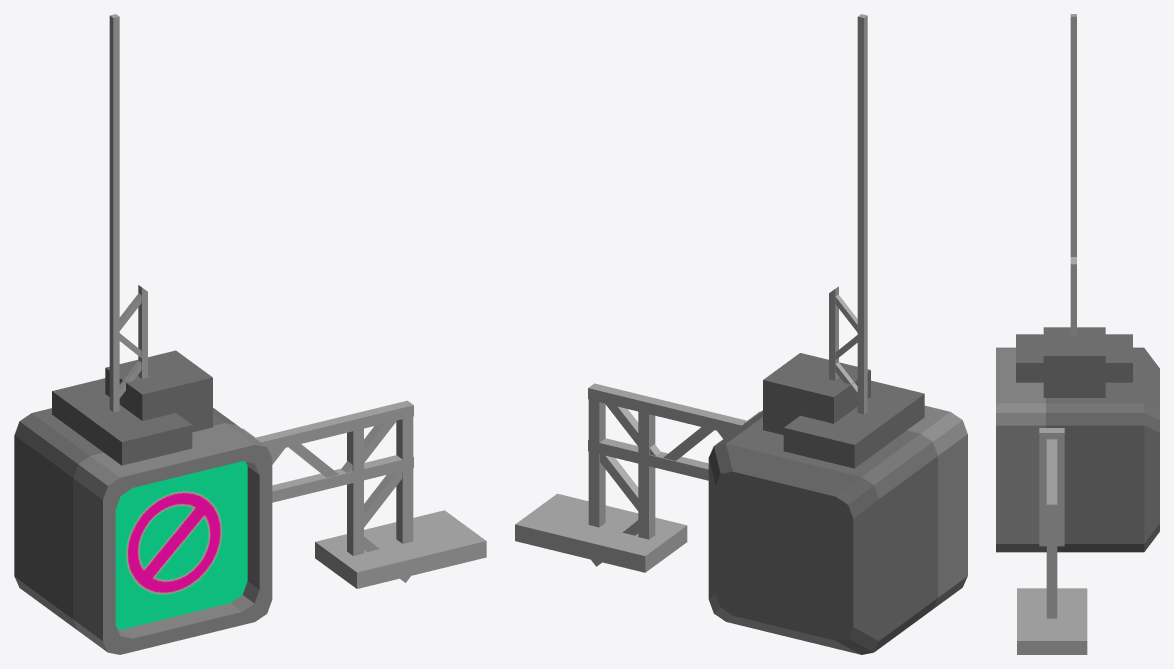
3 renders of one model, left to right at view 1: azimuth 30°, elevation 25°; view 2: azimuth 150°, elevation 25°; view 3: azimuth 270°, elevation 25°, orthographic. The views are drawn at different scales.
Visible parts, largest first — view 1: TV_2; view 2: TV_2; view 3: TV_2.
Boxes of the visible parts, left/top/right/bottom form: TV_2: left=14, top=14, right=486, bottom=654; TV_2: left=515, top=14, right=967, bottom=654; TV_2: left=996, top=14, right=1159, bottom=654.
Size of the model in its own units: 0.8065 by 1.21 by 0.3448.
4 materials, 1 textured.
